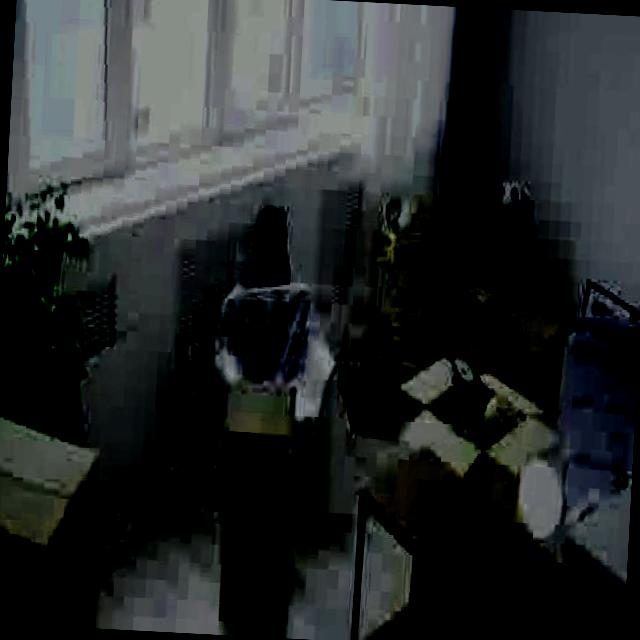Box: (215, 384, 304, 536), (210, 522, 294, 623), (511, 302, 568, 405)
